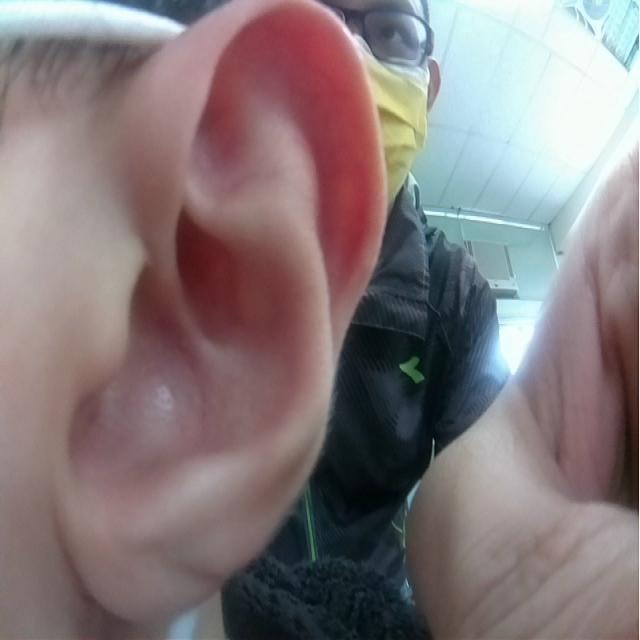no-earmuff: (44, 0, 386, 624)
